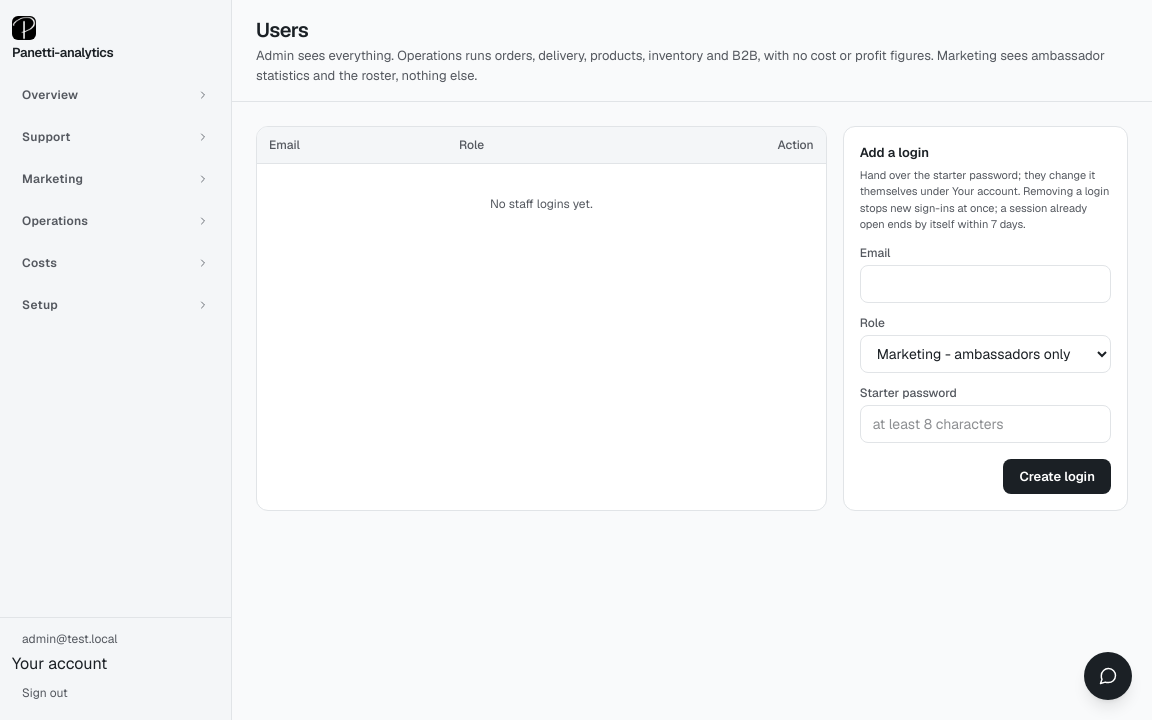
Test: UsersClient › creates a login with a role and a starter password
In the field labelled "Email": (985, 284) top-left (860, 264), bottom-right (1111, 302), type "new@x.local"
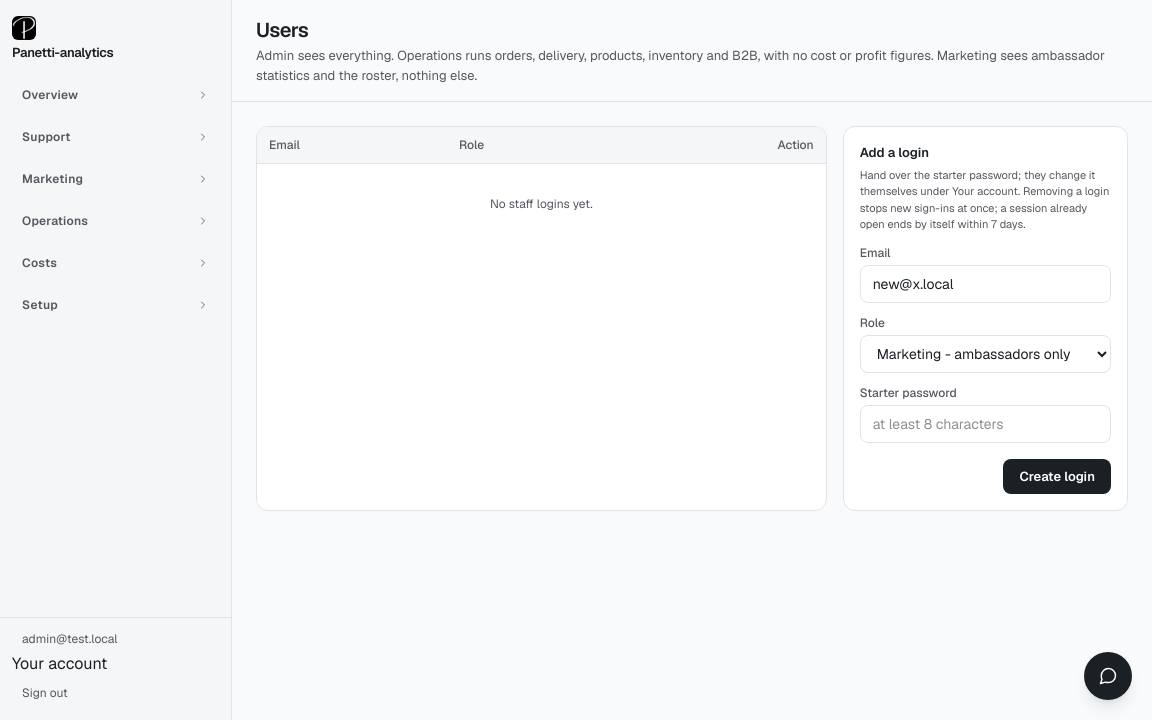
Select "Marketing - ambassadors only" in the dropdown labelled "Role": (985, 354) top-left (860, 334), bottom-right (1111, 372)
In the field labelled "Starter password": (985, 424) top-left (860, 404), bottom-right (1111, 442), type "longenough1"
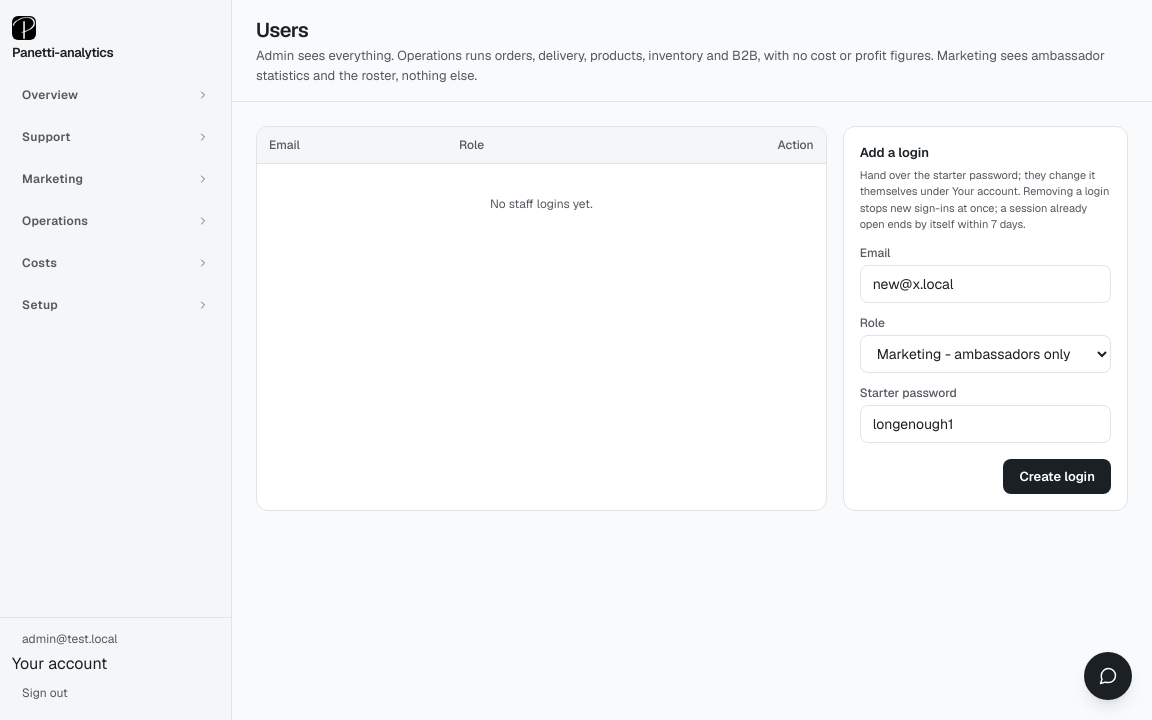
Click the button "Create login": click(1057, 476) top-left (1003, 458), bottom-right (1111, 494)
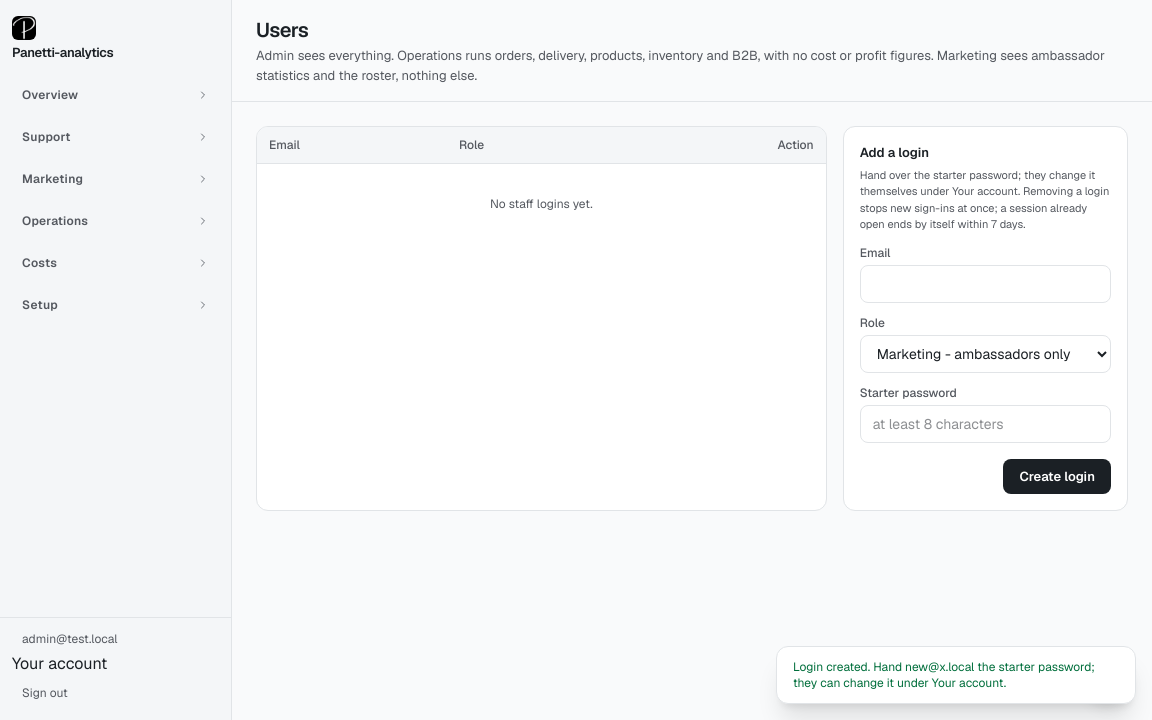
Now the button "created" is shown, box top-left (776, 646), bottom-right (1136, 704)
